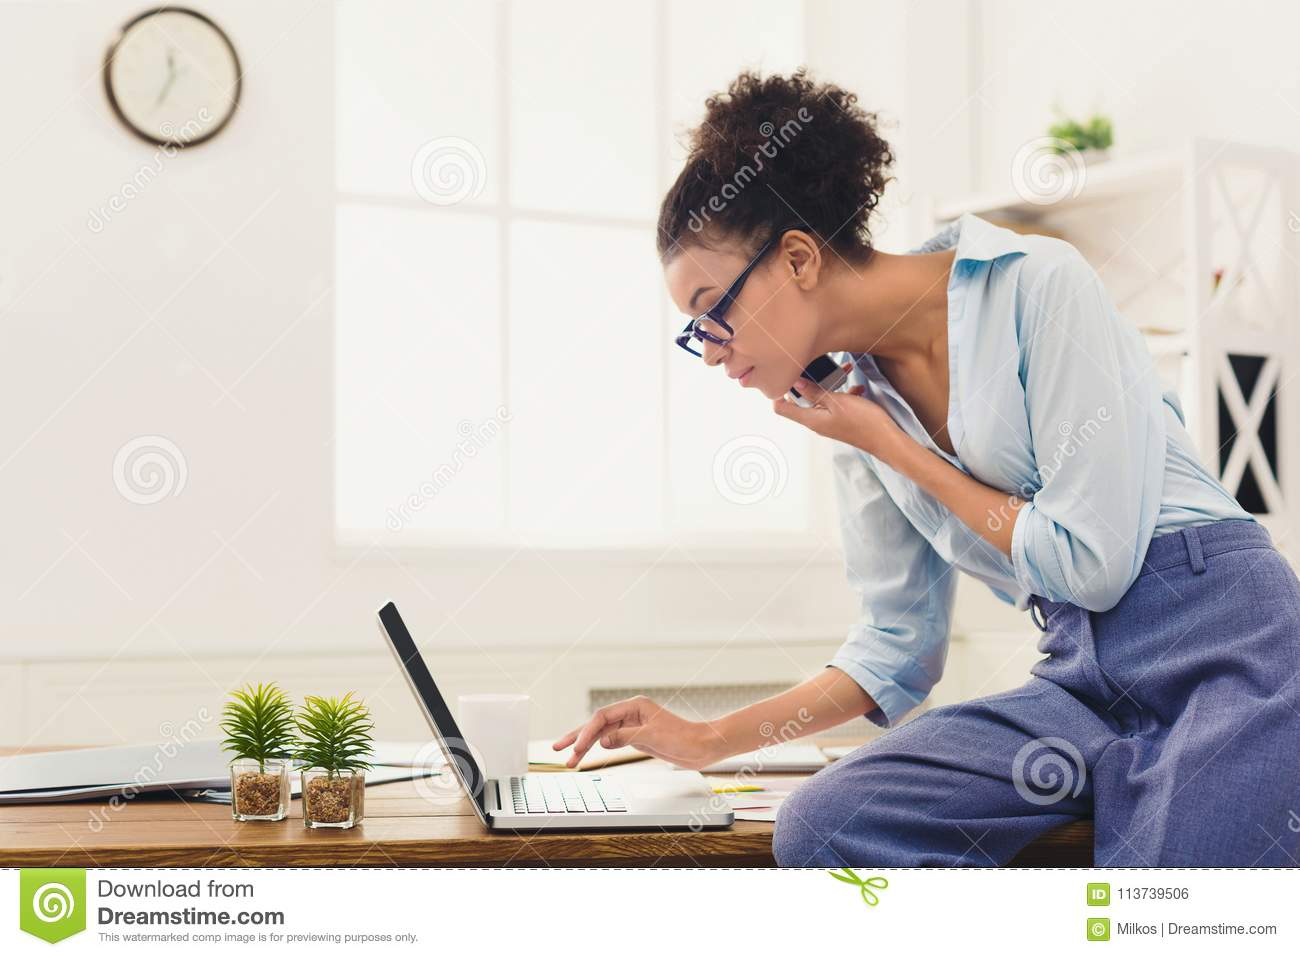phone: (787, 354, 850, 409)
talk: (678, 279, 903, 457)
